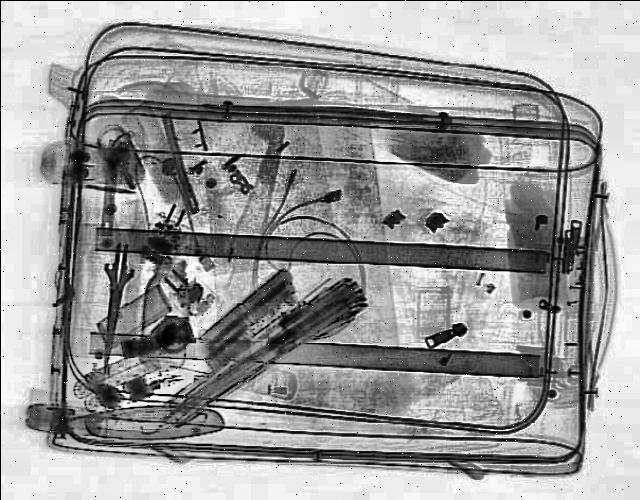Knife: (90, 241, 140, 371)
